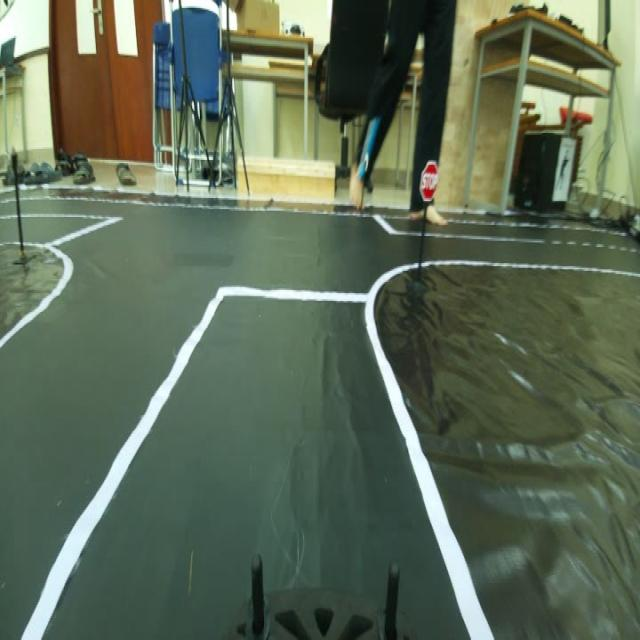stop: (417, 156, 443, 202)
